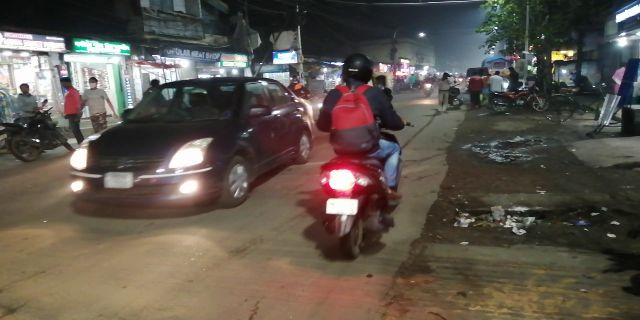Car: (64, 72, 314, 219)
Motorbike: (312, 51, 412, 266)
